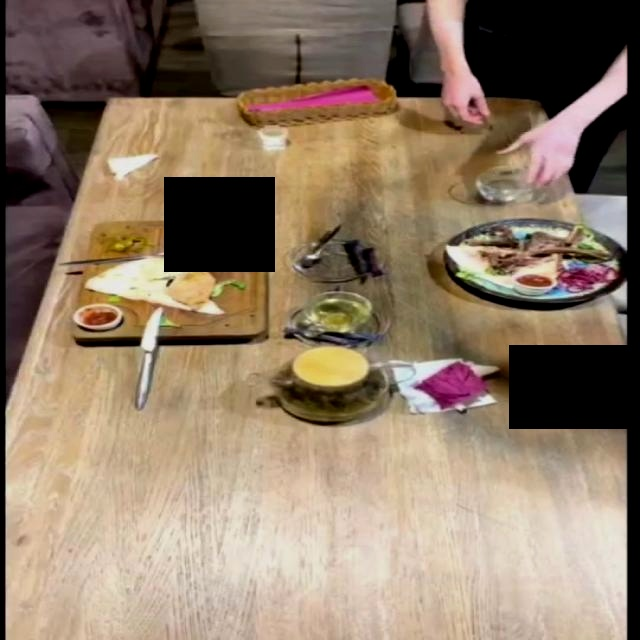meat: (77, 214, 272, 353), (405, 203, 640, 311)
tea: (229, 342, 423, 430)
